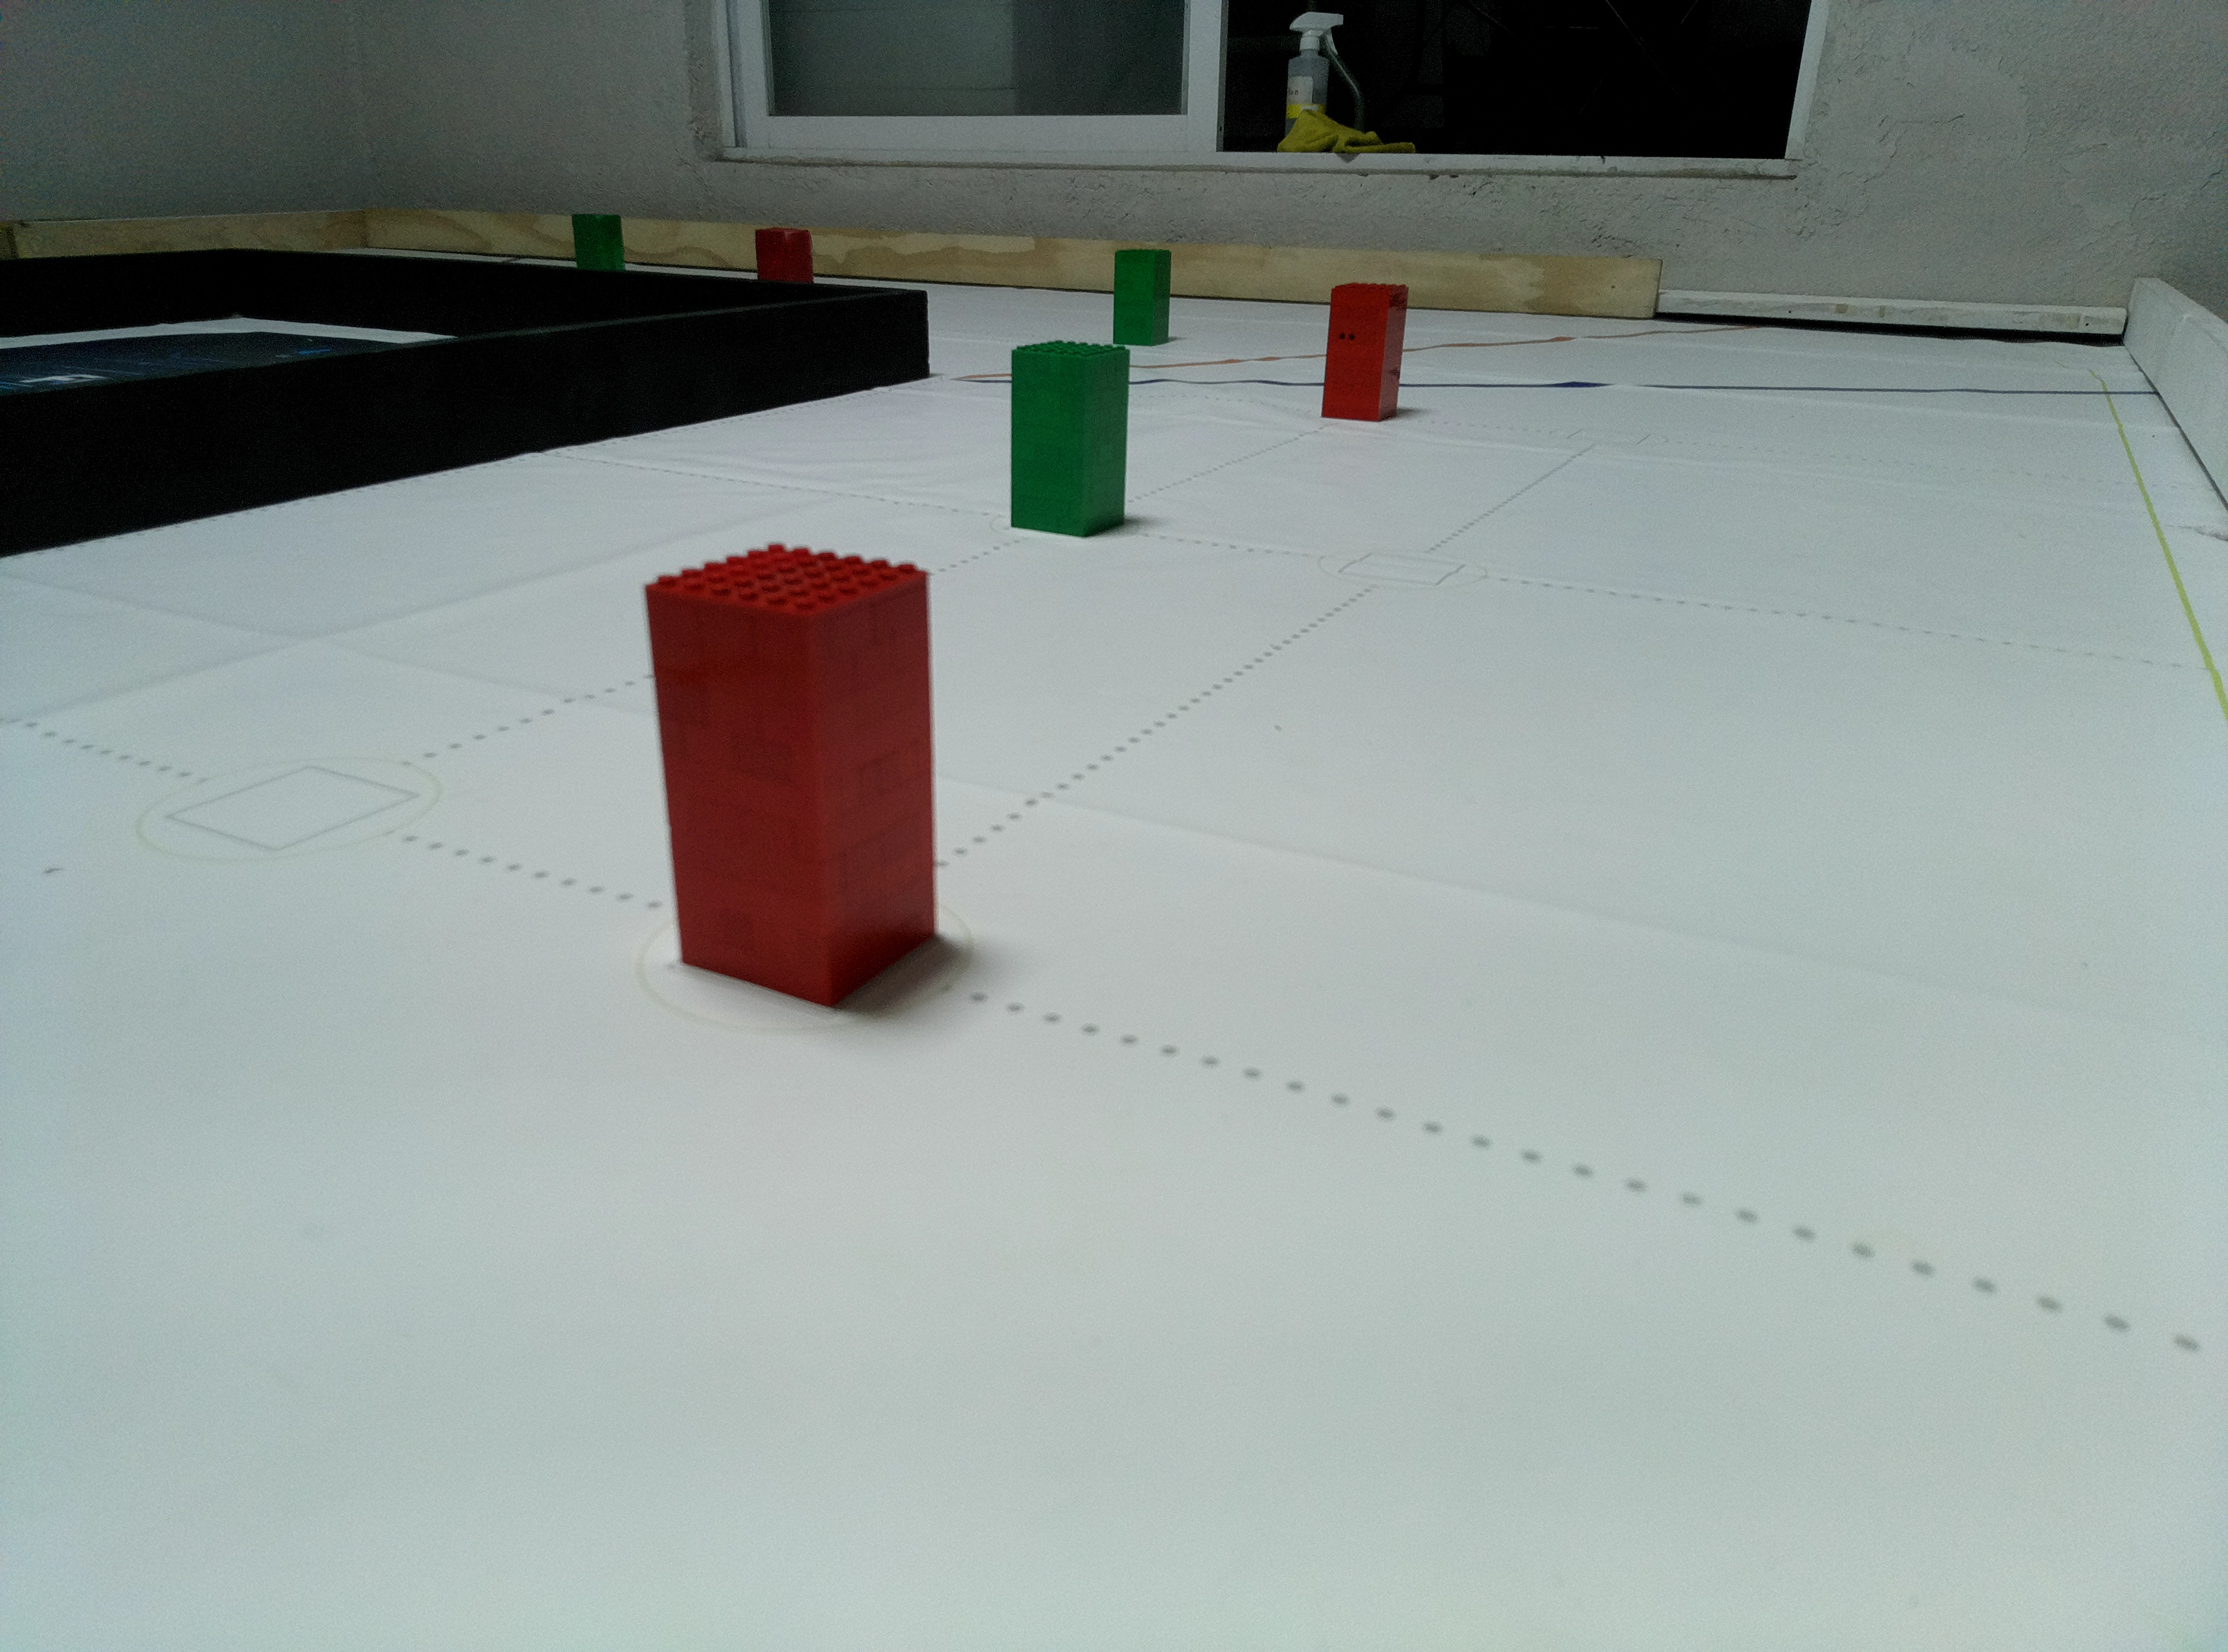greenbox: (1008, 340, 1131, 540), (1111, 246, 1173, 349), (569, 213, 628, 271)
redbox: (639, 536, 937, 1013), (1319, 283, 1412, 423), (753, 227, 816, 285)
